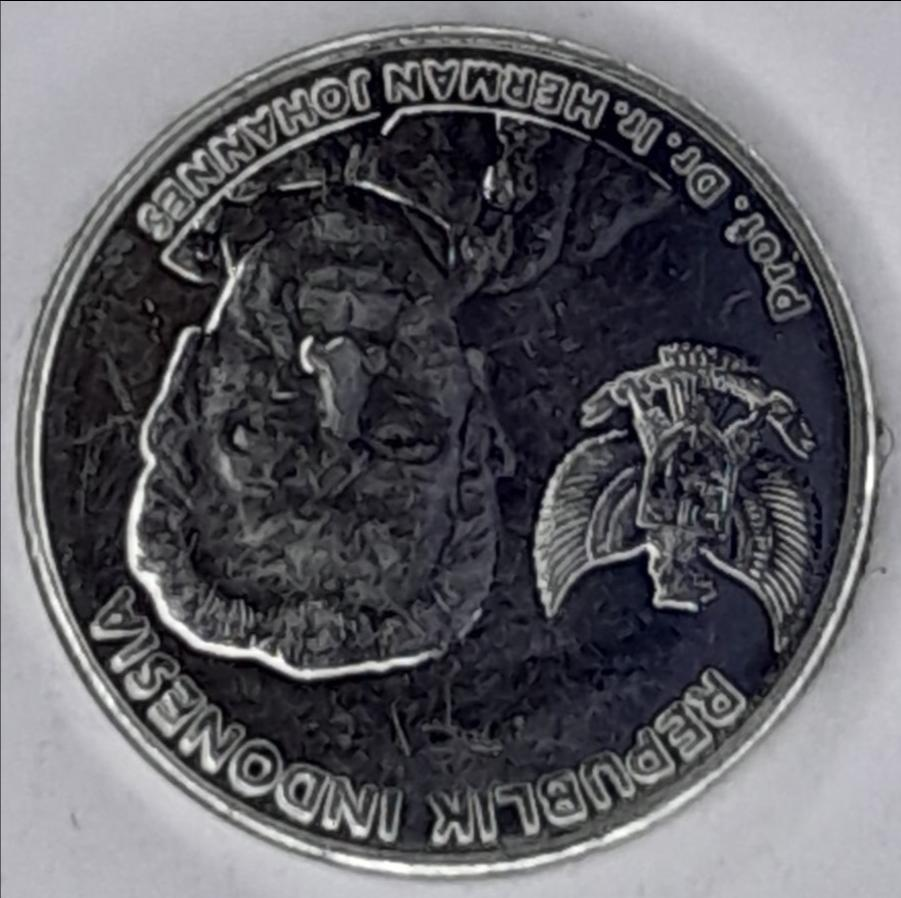coin_100_e2016: (10, 18, 888, 880)
